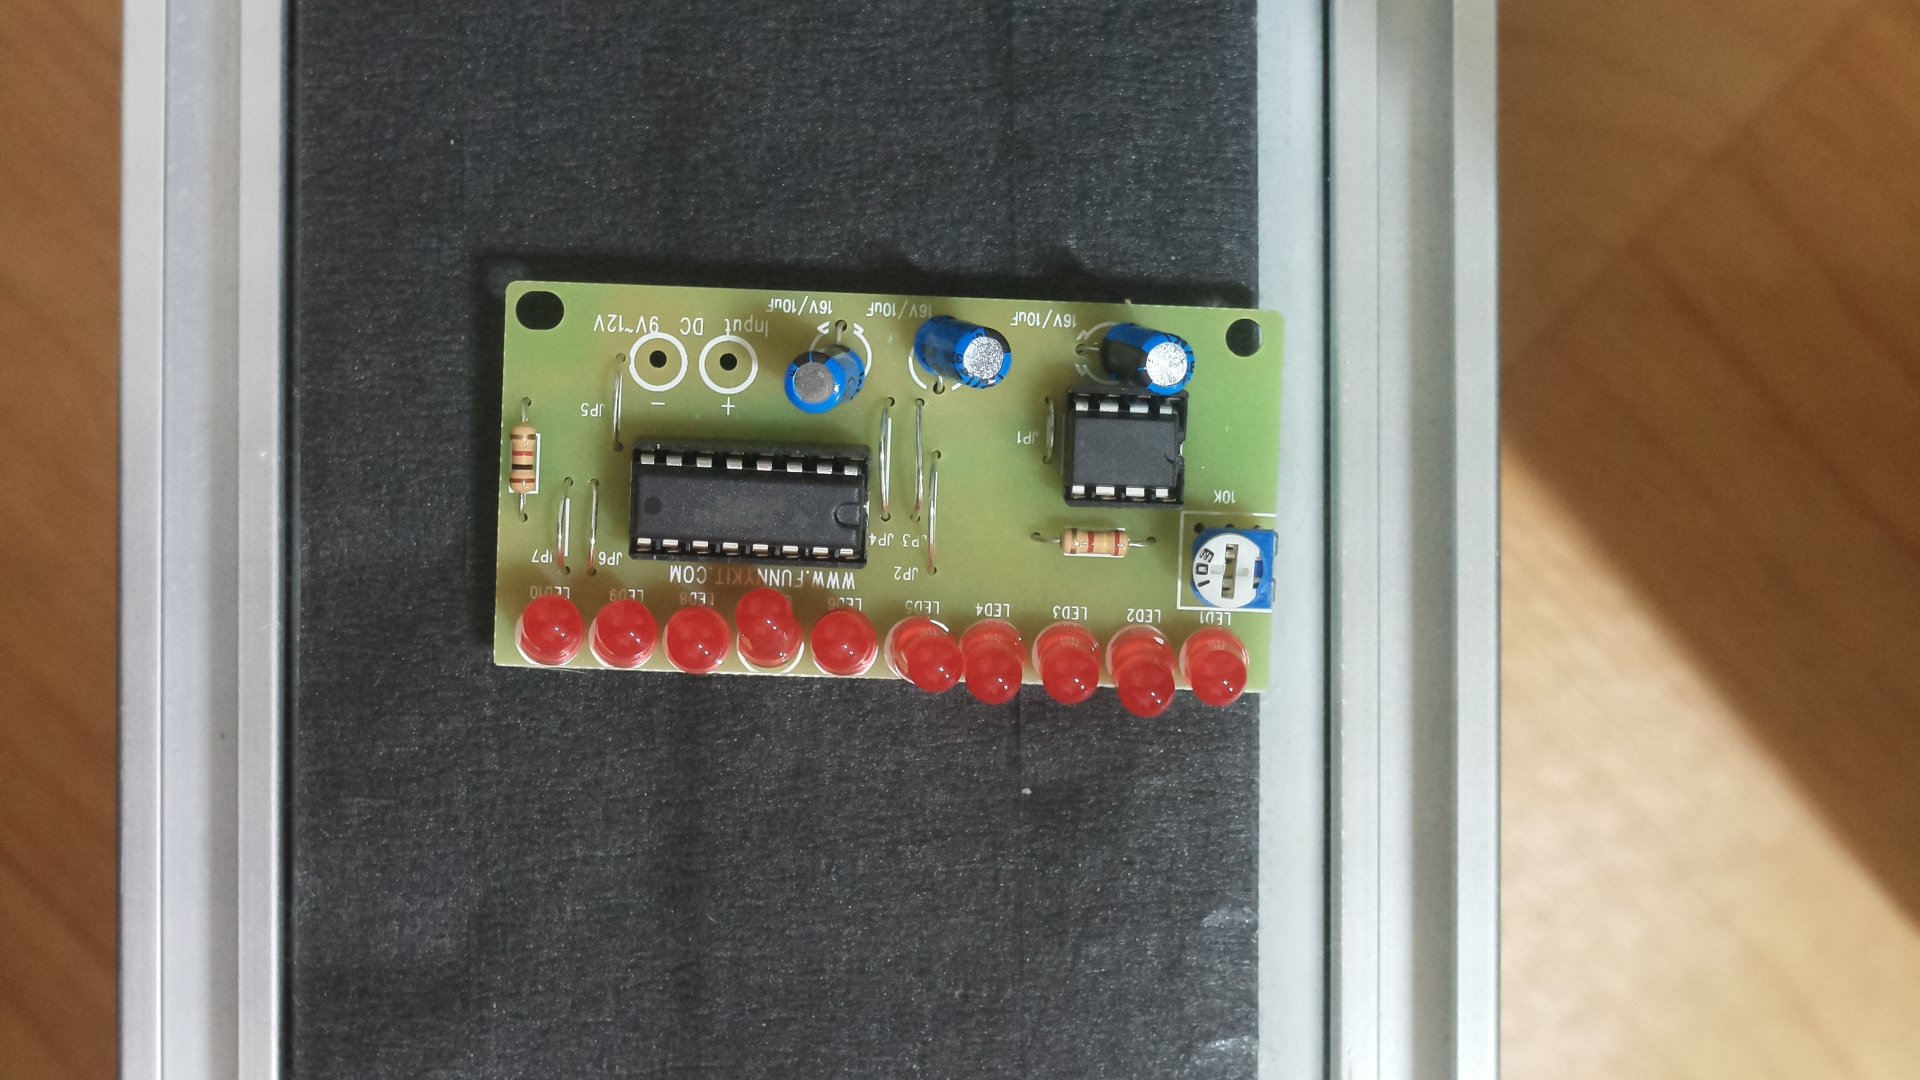B_Normal: (480, 264, 1294, 729)
